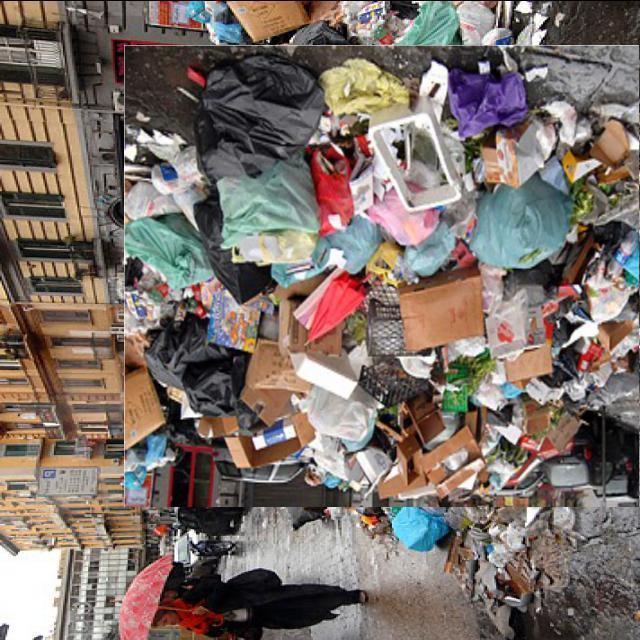Trashbag: (188, 50, 330, 202), (125, 320, 265, 434)
